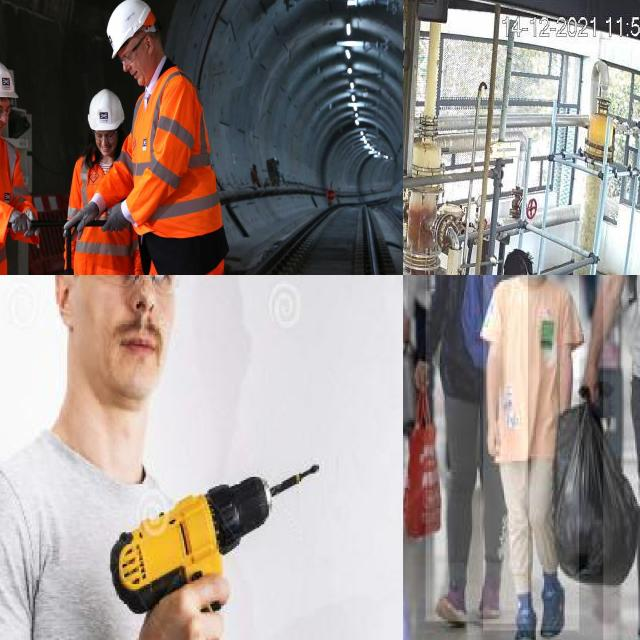No_Ear-Protection: (50, 275, 84, 331), (145, 35, 155, 57)
face_nomask: (91, 275, 180, 374), (124, 51, 156, 88), (96, 138, 117, 156), (0, 115, 8, 138)
glasses: (62, 275, 184, 299), (119, 34, 146, 65), (94, 129, 120, 141), (0, 105, 12, 117)
hand_glove: (64, 200, 99, 237), (101, 204, 131, 232), (9, 208, 36, 236)
hand_noglove: (135, 571, 235, 640), (579, 357, 603, 404), (409, 357, 436, 397), (480, 419, 504, 462)
head_helmet: (106, 0, 158, 58), (88, 88, 125, 131), (0, 62, 18, 98)
head_nohelmet: (502, 247, 534, 275)
person: (0, 275, 278, 640), (425, 275, 528, 623), (483, 275, 580, 632), (603, 275, 640, 640)
shoes: (537, 565, 572, 639), (427, 577, 472, 634), (473, 566, 506, 629), (509, 588, 540, 640)
